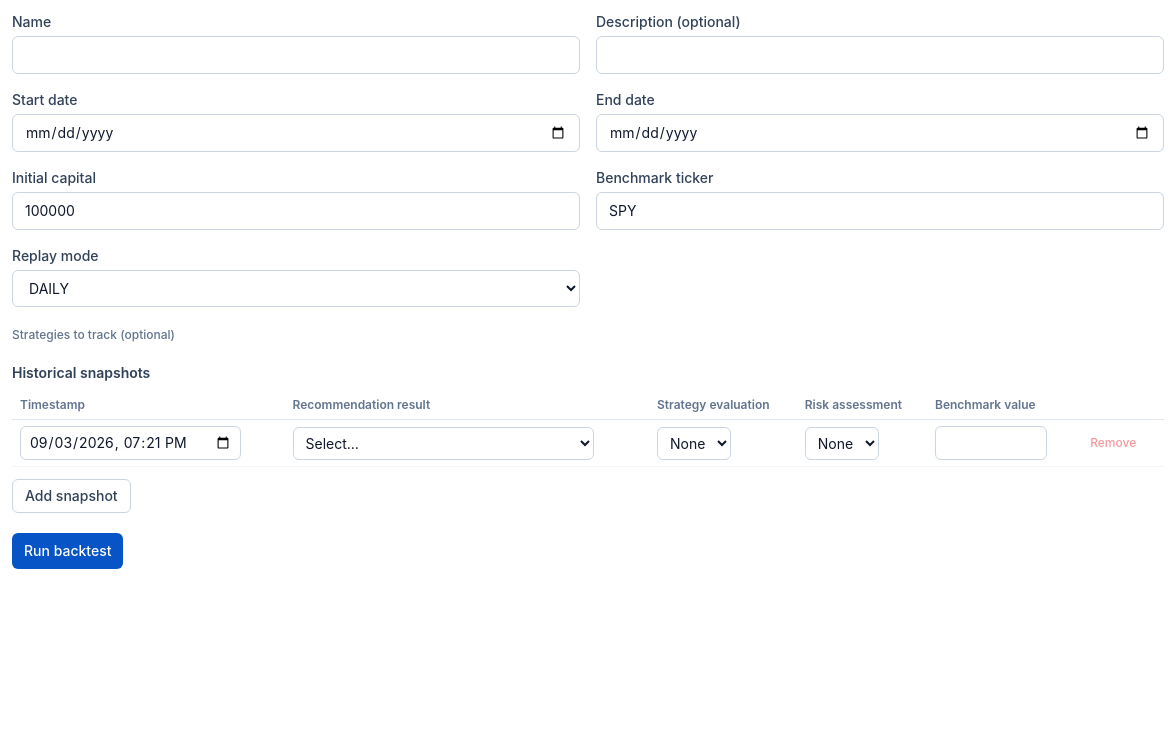
Test: CreateBacktestForm › rejects an end date before the start date
Type "Bad range" into the field labelled "Name". click: (296, 55)
box: [12,36,580,74]
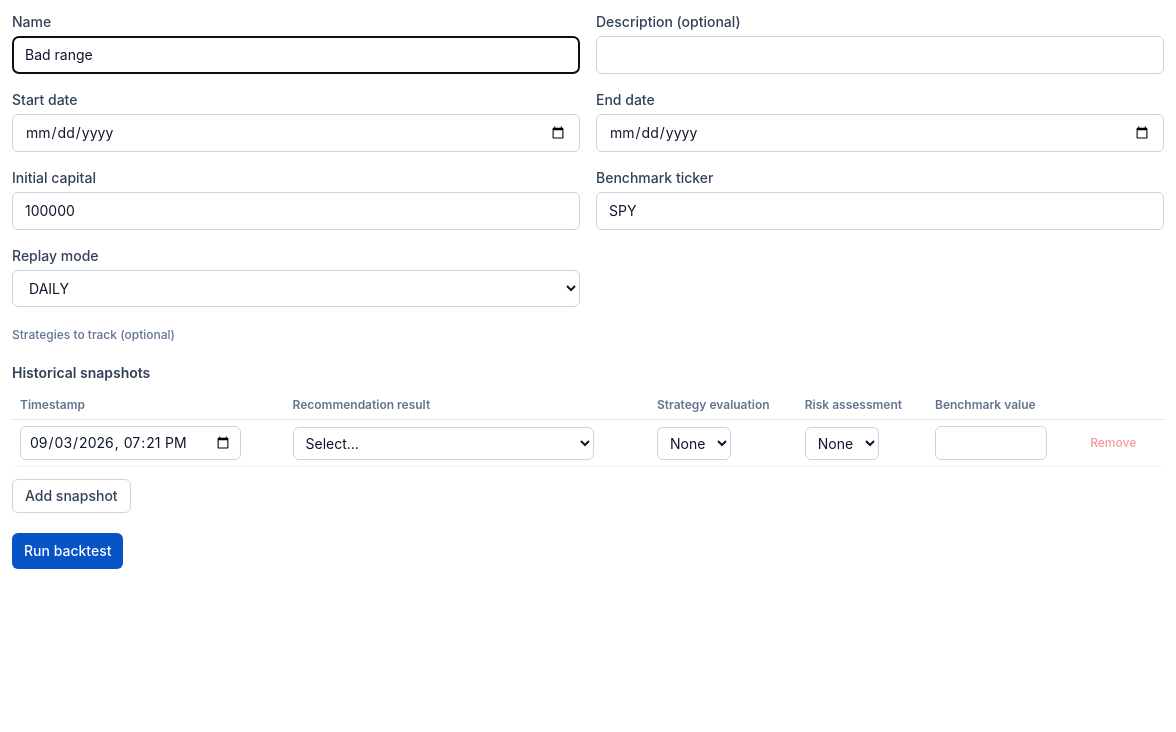
Type "2026-02-01" into the date field labelled "Start date". click: (296, 133)
box: [12,114,580,152]
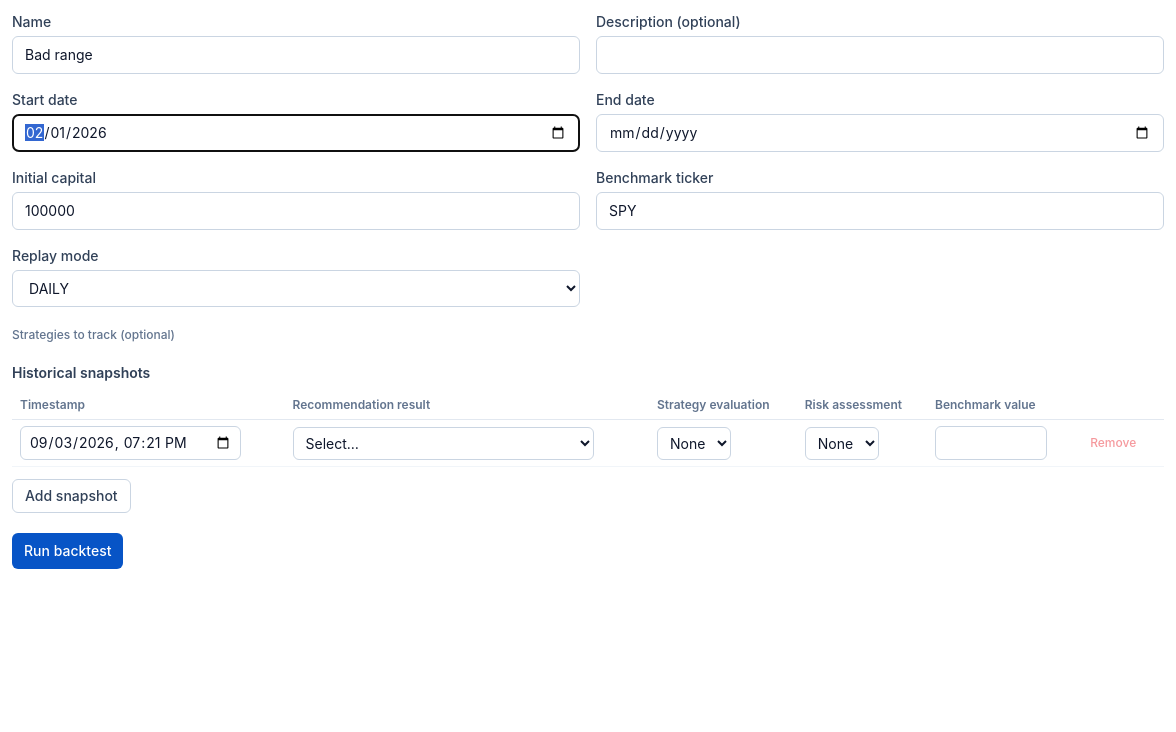
Type "2026-01-01" into the date field labelled "End date". click: (880, 133)
box: [596,114,1164,152]
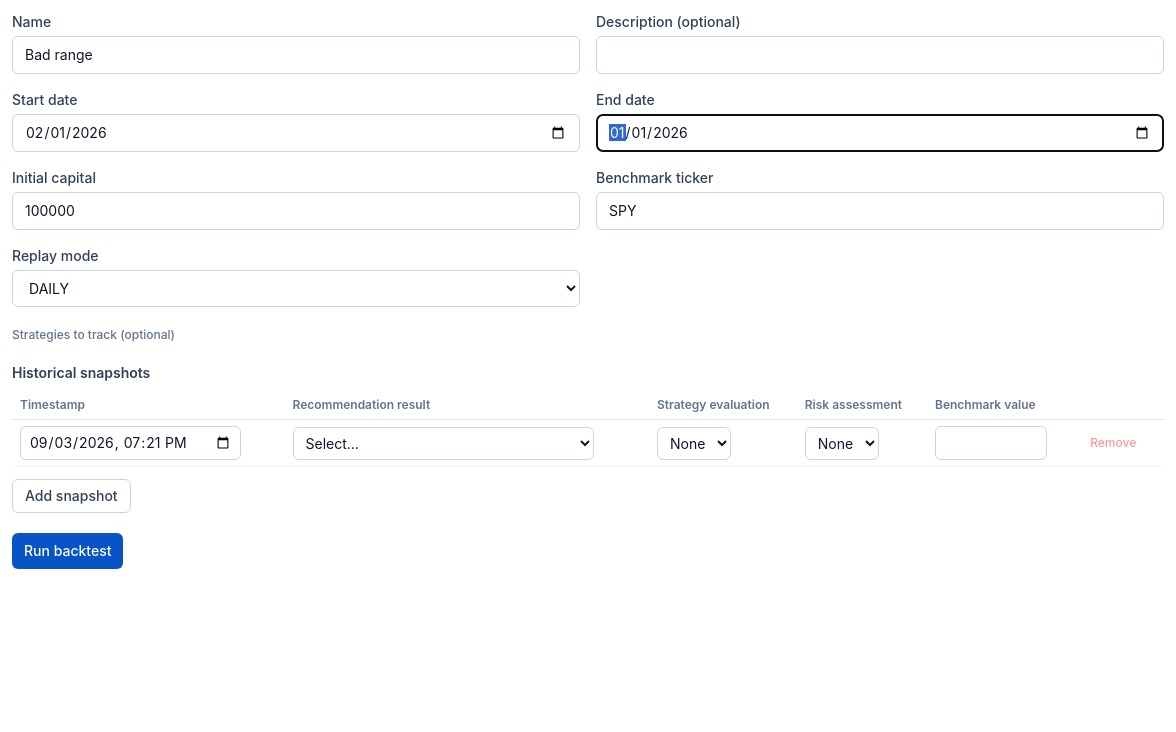
Click the button "Run backtest". click: (68, 551)
box: [12,533,124,569]
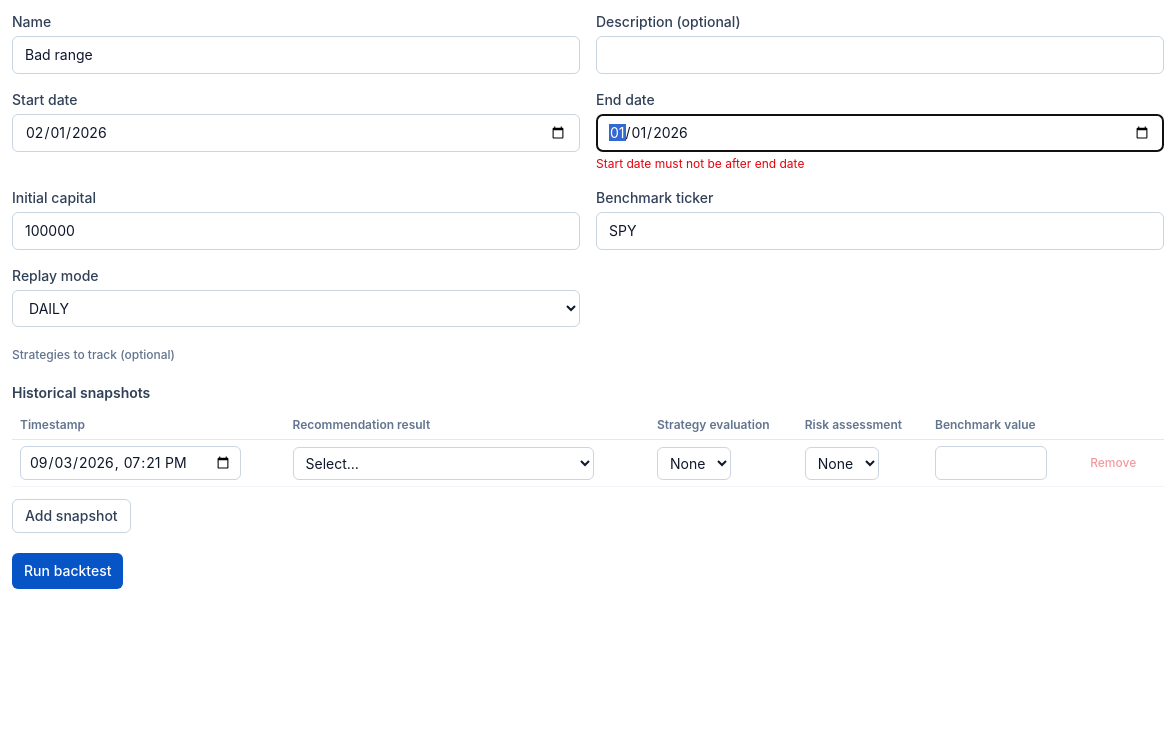
Result: the text "Start date must not be after end date" is shown at [596,156,804,171]
